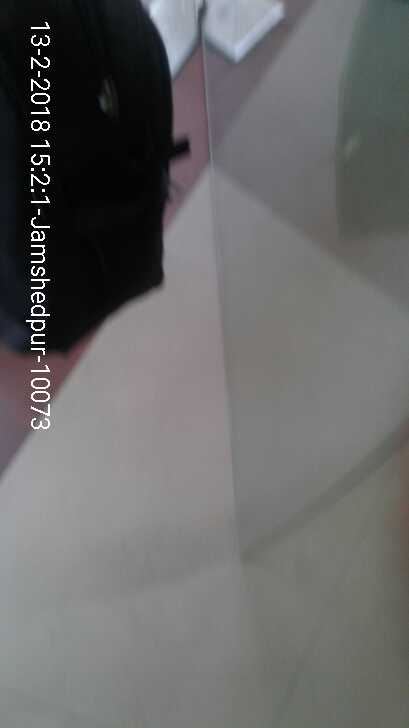reject: (99, 148, 231, 291)
